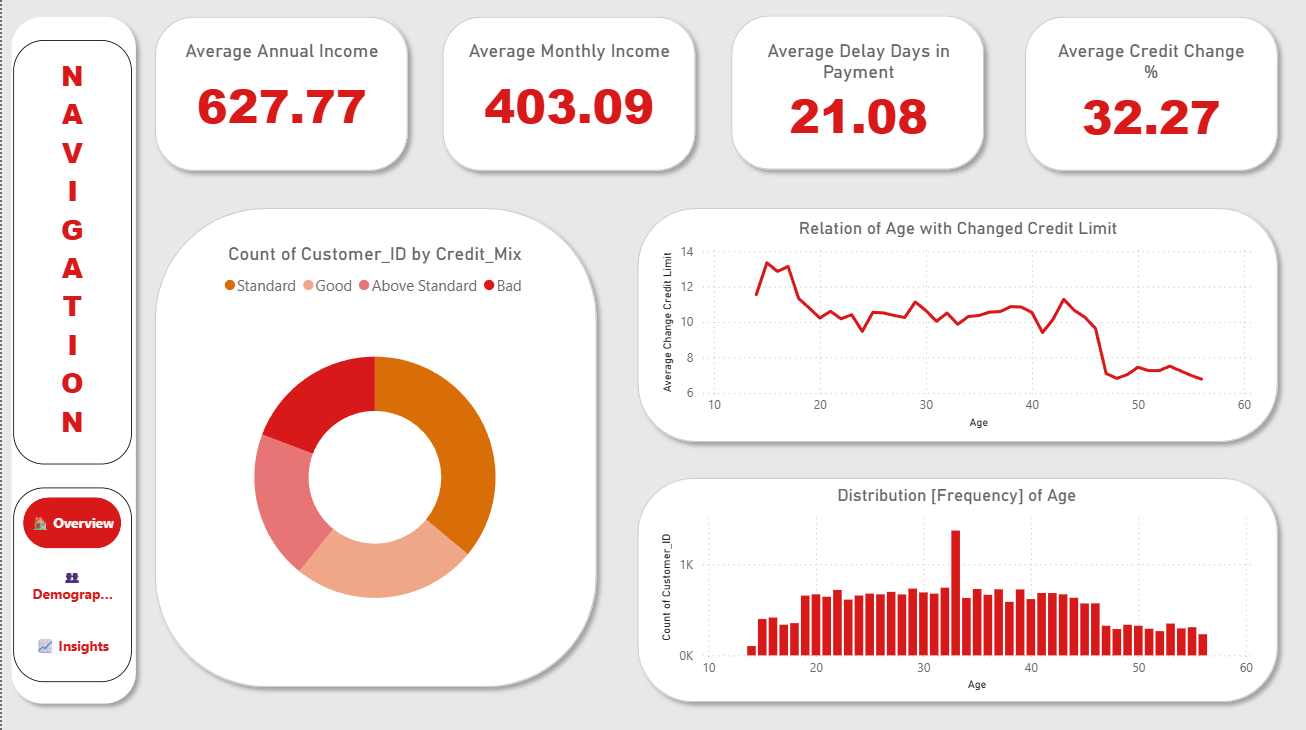

What the dashboard file says about the page in this screenshot:
{"tool":"powerbi","page":{"name":"🏠 Overview","canvas":[1280,720],"ordinal":0},"visuals":[{"type":"shape","box":[140.6,12.2,265.4,168.8],"z":1000},{"type":"shape","box":[421.9,12.2,265.4,168.8],"z":2000},{"type":"shape","box":[991.7,12.2,265.4,168.8],"z":3000},{"type":"shape","box":[704.4,11,265.4,168.8],"z":4000},{"type":"card","title":"Average Annual Income","fields":{"Values":["Avg(combined_df.Amount_invested_monthly)"]},"box":[168.8,44,210.3,105.2],"z":5000},{"type":"card","title":"Average Monthly Income","fields":{"Values":["Avg(combined_df.Monthly_Balance)"]},"box":[450,44,210.3,105.2],"z":6000},{"type":"card","title":"Average Delay Days in Payment","fields":{"Values":["Avg(combined_df.Delay_from_due_date)"]},"box":[733.7,44,209.1,103.9],"z":7000},{"type":"card","title":"Average Credit Change %","fields":{"Values":["Avg(combined_df.Credit_Utilization_Ratio)"]},"box":[1019.8,44,209.1,105.2],"z":8000},{"type":"shape","box":[140.6,199.3,450,486.7],"z":9000},{"type":"donutChart","fields":{"Category":["combined_df.Credit_Mix"],"Y":["CountNonNull(combined_df.Customer_ID)"]},"box":[161.4,242.1,407.2,407.2],"z":10000},{"type":"shape","box":[612.6,199.3,644.4,247],"z":11000},{"type":"lineChart","title":"Relation of Age with Changed Credit Limit","fields":{"Category":["combined_df.Age"],"Y":["Avg(combined_df.Changed_Credit_Limit)"]},"box":[640.8,217.7,589.4,211.6],"z":12000},{"type":"shape","box":[612.6,463.5,644.4,237.2],"z":13000},{"type":"clusteredColumnChart","title":"Distribution [Frequency] of Age","fields":{"Category":["combined_df.Age"],"Y":["CountNonNull(combined_df.Customer_ID)"]},"box":[639.5,479.4,589.4,206.7],"z":14000},{"type":"shape","box":[0,12.5,140,690],"z":14001},{"type":"pageNavigator","box":[11.2,481.2,116.2,190],"z":14002},{"type":"textbox","box":[11.2,43.8,116.2,415],"z":14003}]}

Visuals, with their boxes in screenshot pixels (x1, y1, x2, y2), scaled from the page's 1280x720 canvas onto the 1306x730 screenshot:
shape: (left=143, top=12, right=414, bottom=184)
shape: (left=430, top=12, right=701, bottom=184)
shape: (left=1012, top=12, right=1283, bottom=184)
shape: (left=719, top=11, right=989, bottom=182)
"Average Annual Income" card: (left=172, top=45, right=387, bottom=151)
"Average Monthly Income" card: (left=459, top=45, right=674, bottom=151)
"Average Delay Days in Payment" card: (left=749, top=45, right=962, bottom=150)
"Average Credit Change %" card: (left=1041, top=45, right=1254, bottom=151)
shape: (left=143, top=202, right=603, bottom=696)
donutChart - combined_df.Credit_Mix x CountNonNull(combined_df.Customer_ID): (left=165, top=245, right=580, bottom=658)
shape: (left=625, top=202, right=1283, bottom=452)
"Relation of Age with Changed Credit Limit" lineChart: (left=654, top=221, right=1255, bottom=435)
shape: (left=625, top=470, right=1283, bottom=710)
"Distribution [Frequency] of Age" clusteredColumnChart: (left=652, top=486, right=1254, bottom=696)
shape: (left=0, top=13, right=143, bottom=712)
pageNavigator: (left=11, top=488, right=130, bottom=681)
textbox: (left=11, top=44, right=130, bottom=465)
